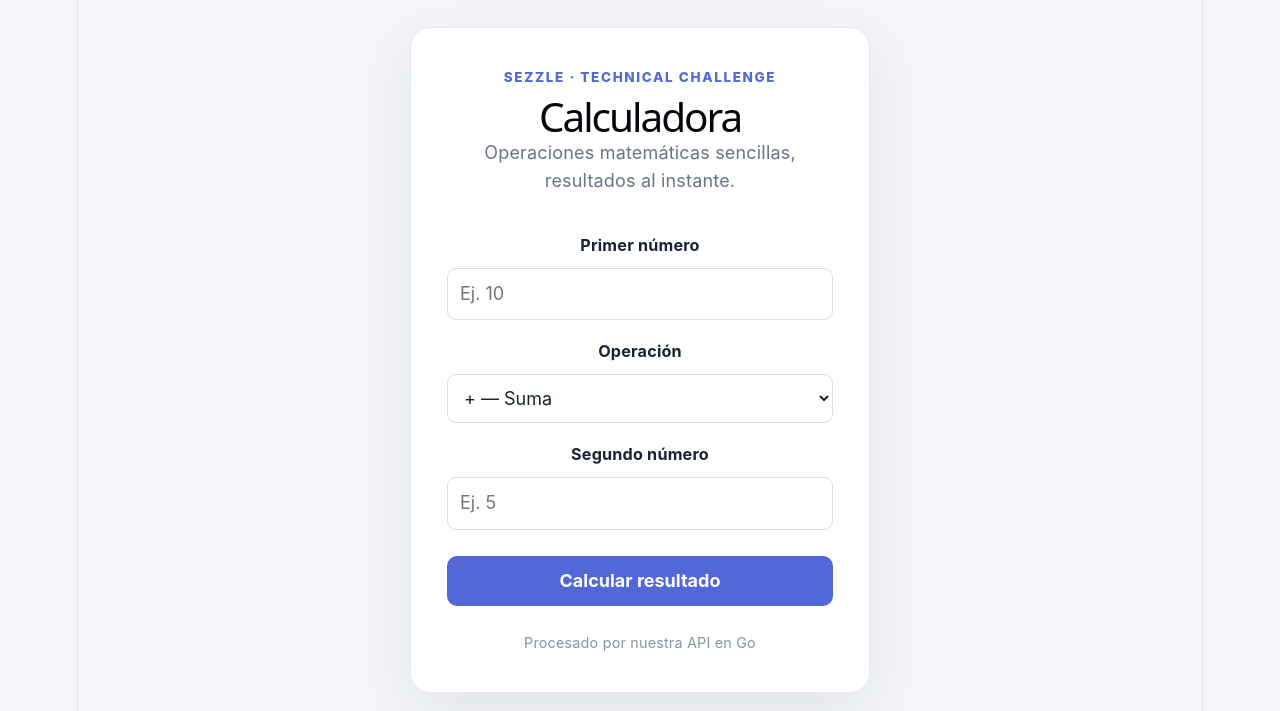
Test: Calculator › shows validation error when fields are empty
Click the button "Calcular resultado": x=640, y=581 [447,556,833,606]
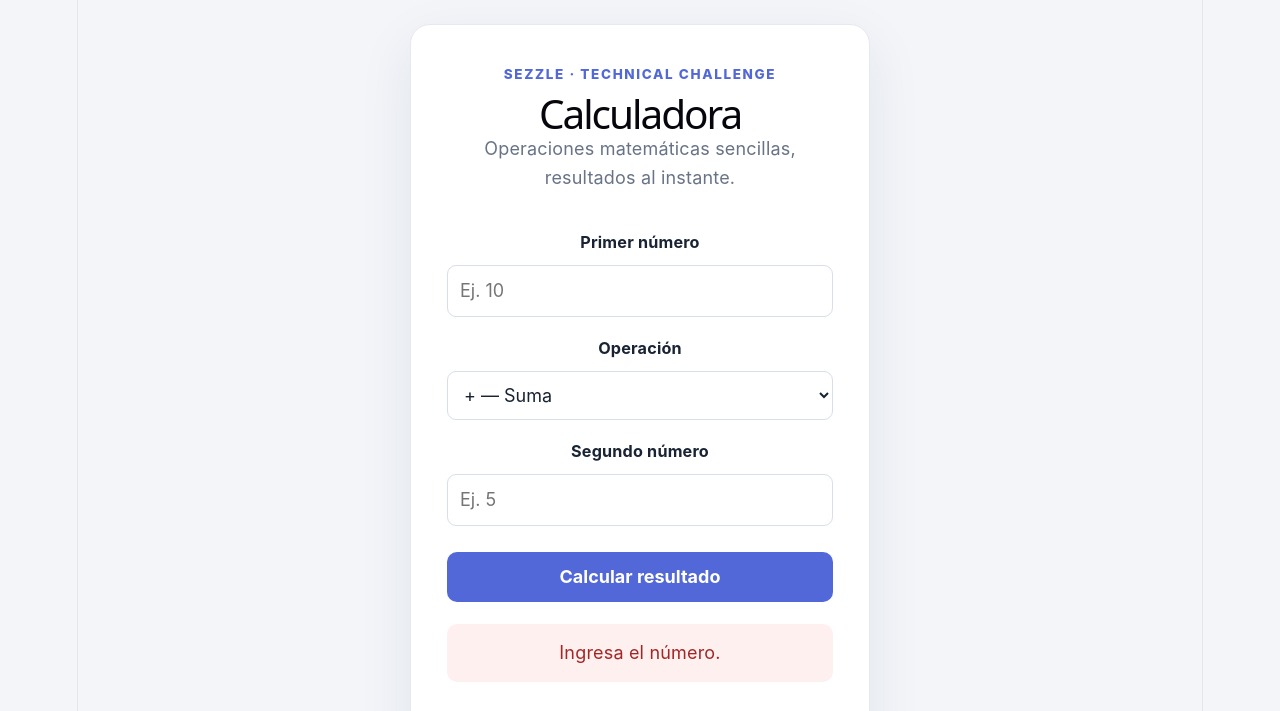
Check: the message "Ingresa el número." is shown, box [447,624,833,682]
